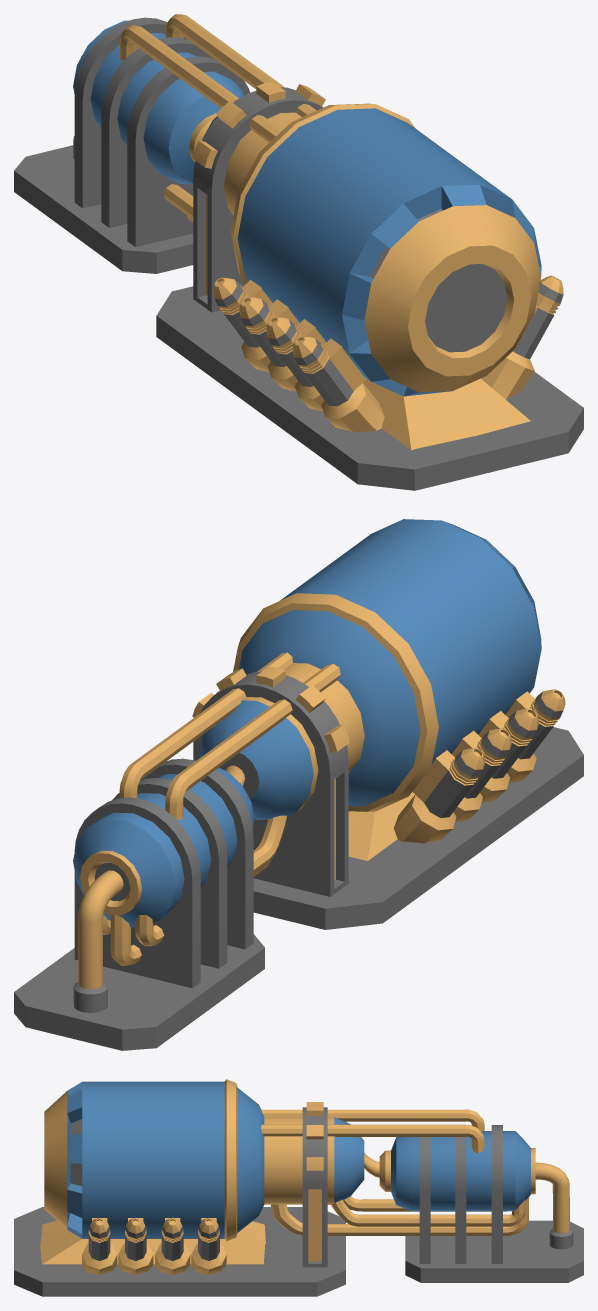
Rendered from Motor.fbx.
3 views of the same model, one above another, from view 1: azimuth 30°, elevation 25°; view 2: azimuth 150°, elevation 25°; view 3: azimuth 270°, elevation 25° (orthographic). The views are drawn at different scales.
Parts seen in each view (by area): view 1: MotorMk0; view 2: MotorMk0; view 3: MotorMk0.
Boxes of the visible parts, bbox=[...] form: MotorMk0: bbox=[14, 14, 583, 490]; MotorMk0: bbox=[14, 519, 583, 1050]; MotorMk0: bbox=[14, 1079, 583, 1296].
Size of the model in its own units: 58.93 by 53.27 by 160.
